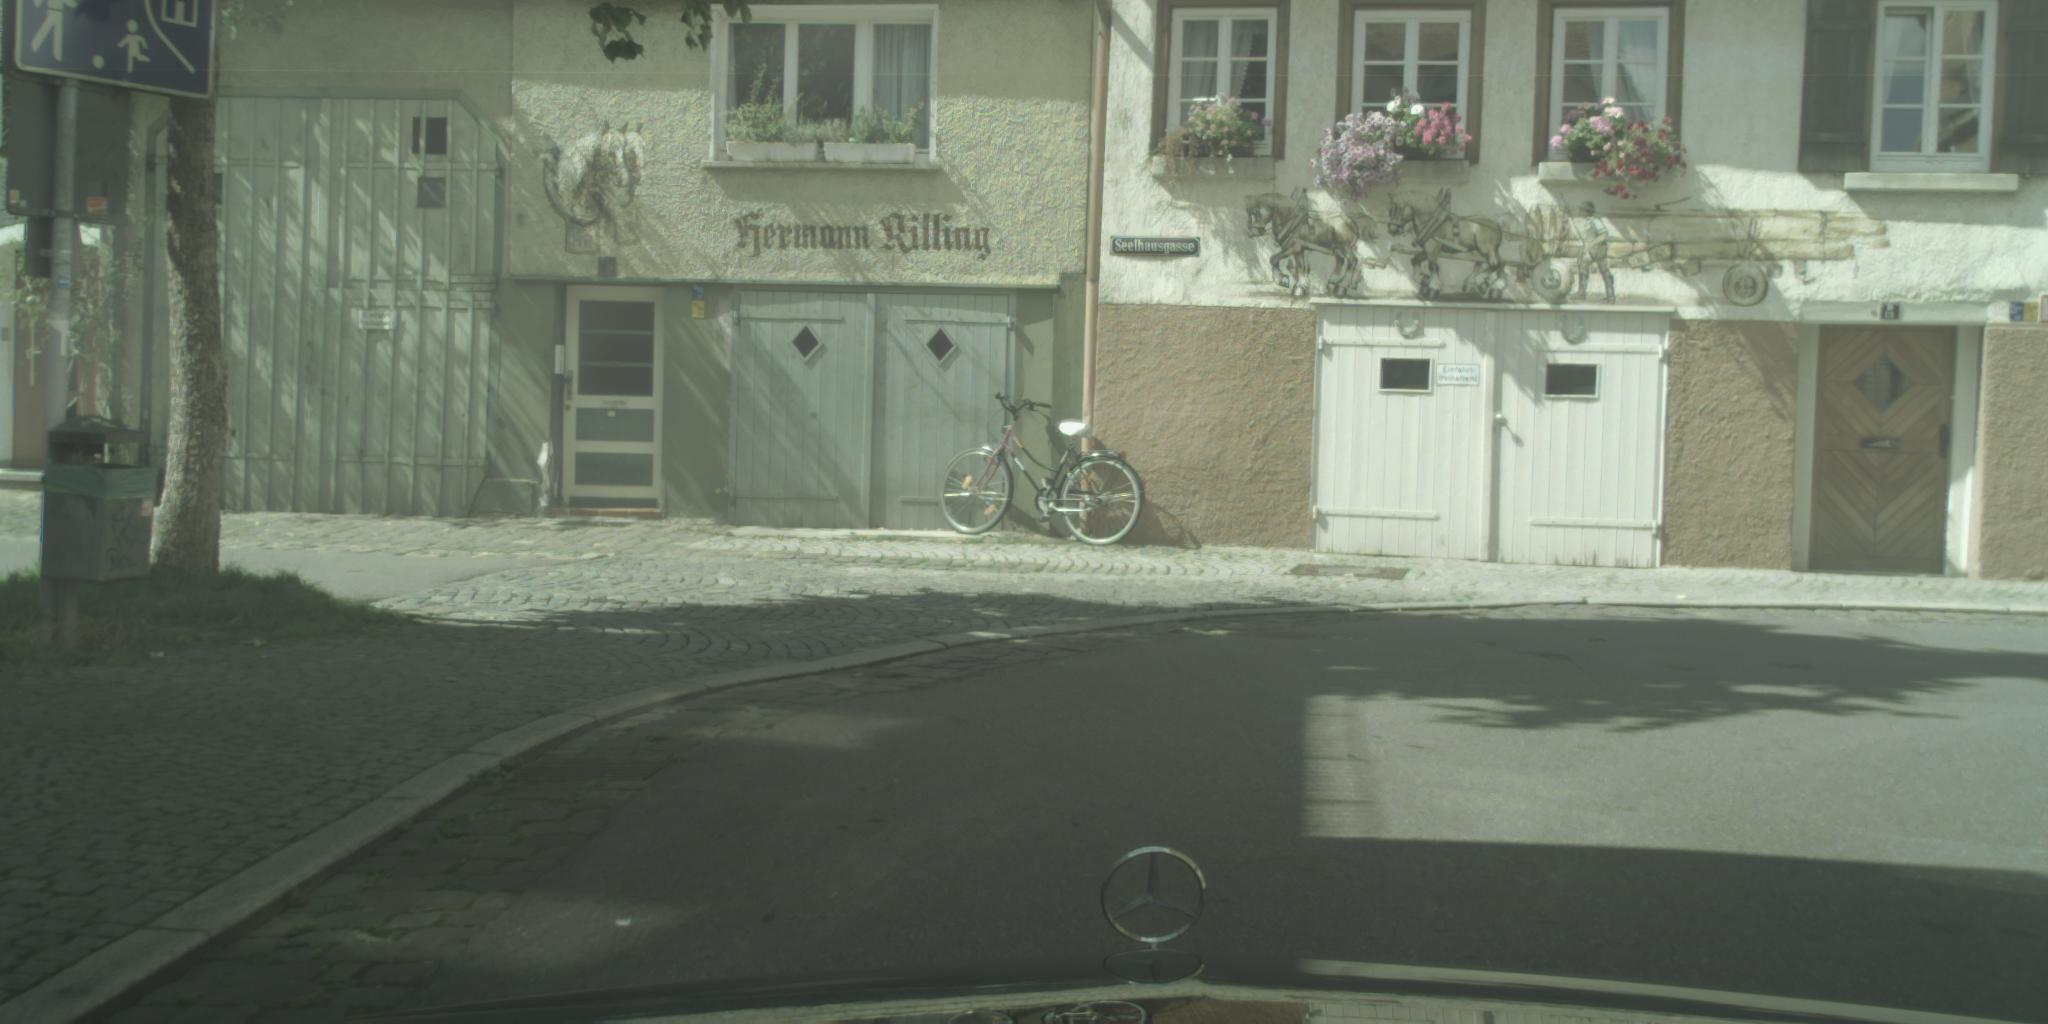bicycle: (938, 391, 1149, 547)
